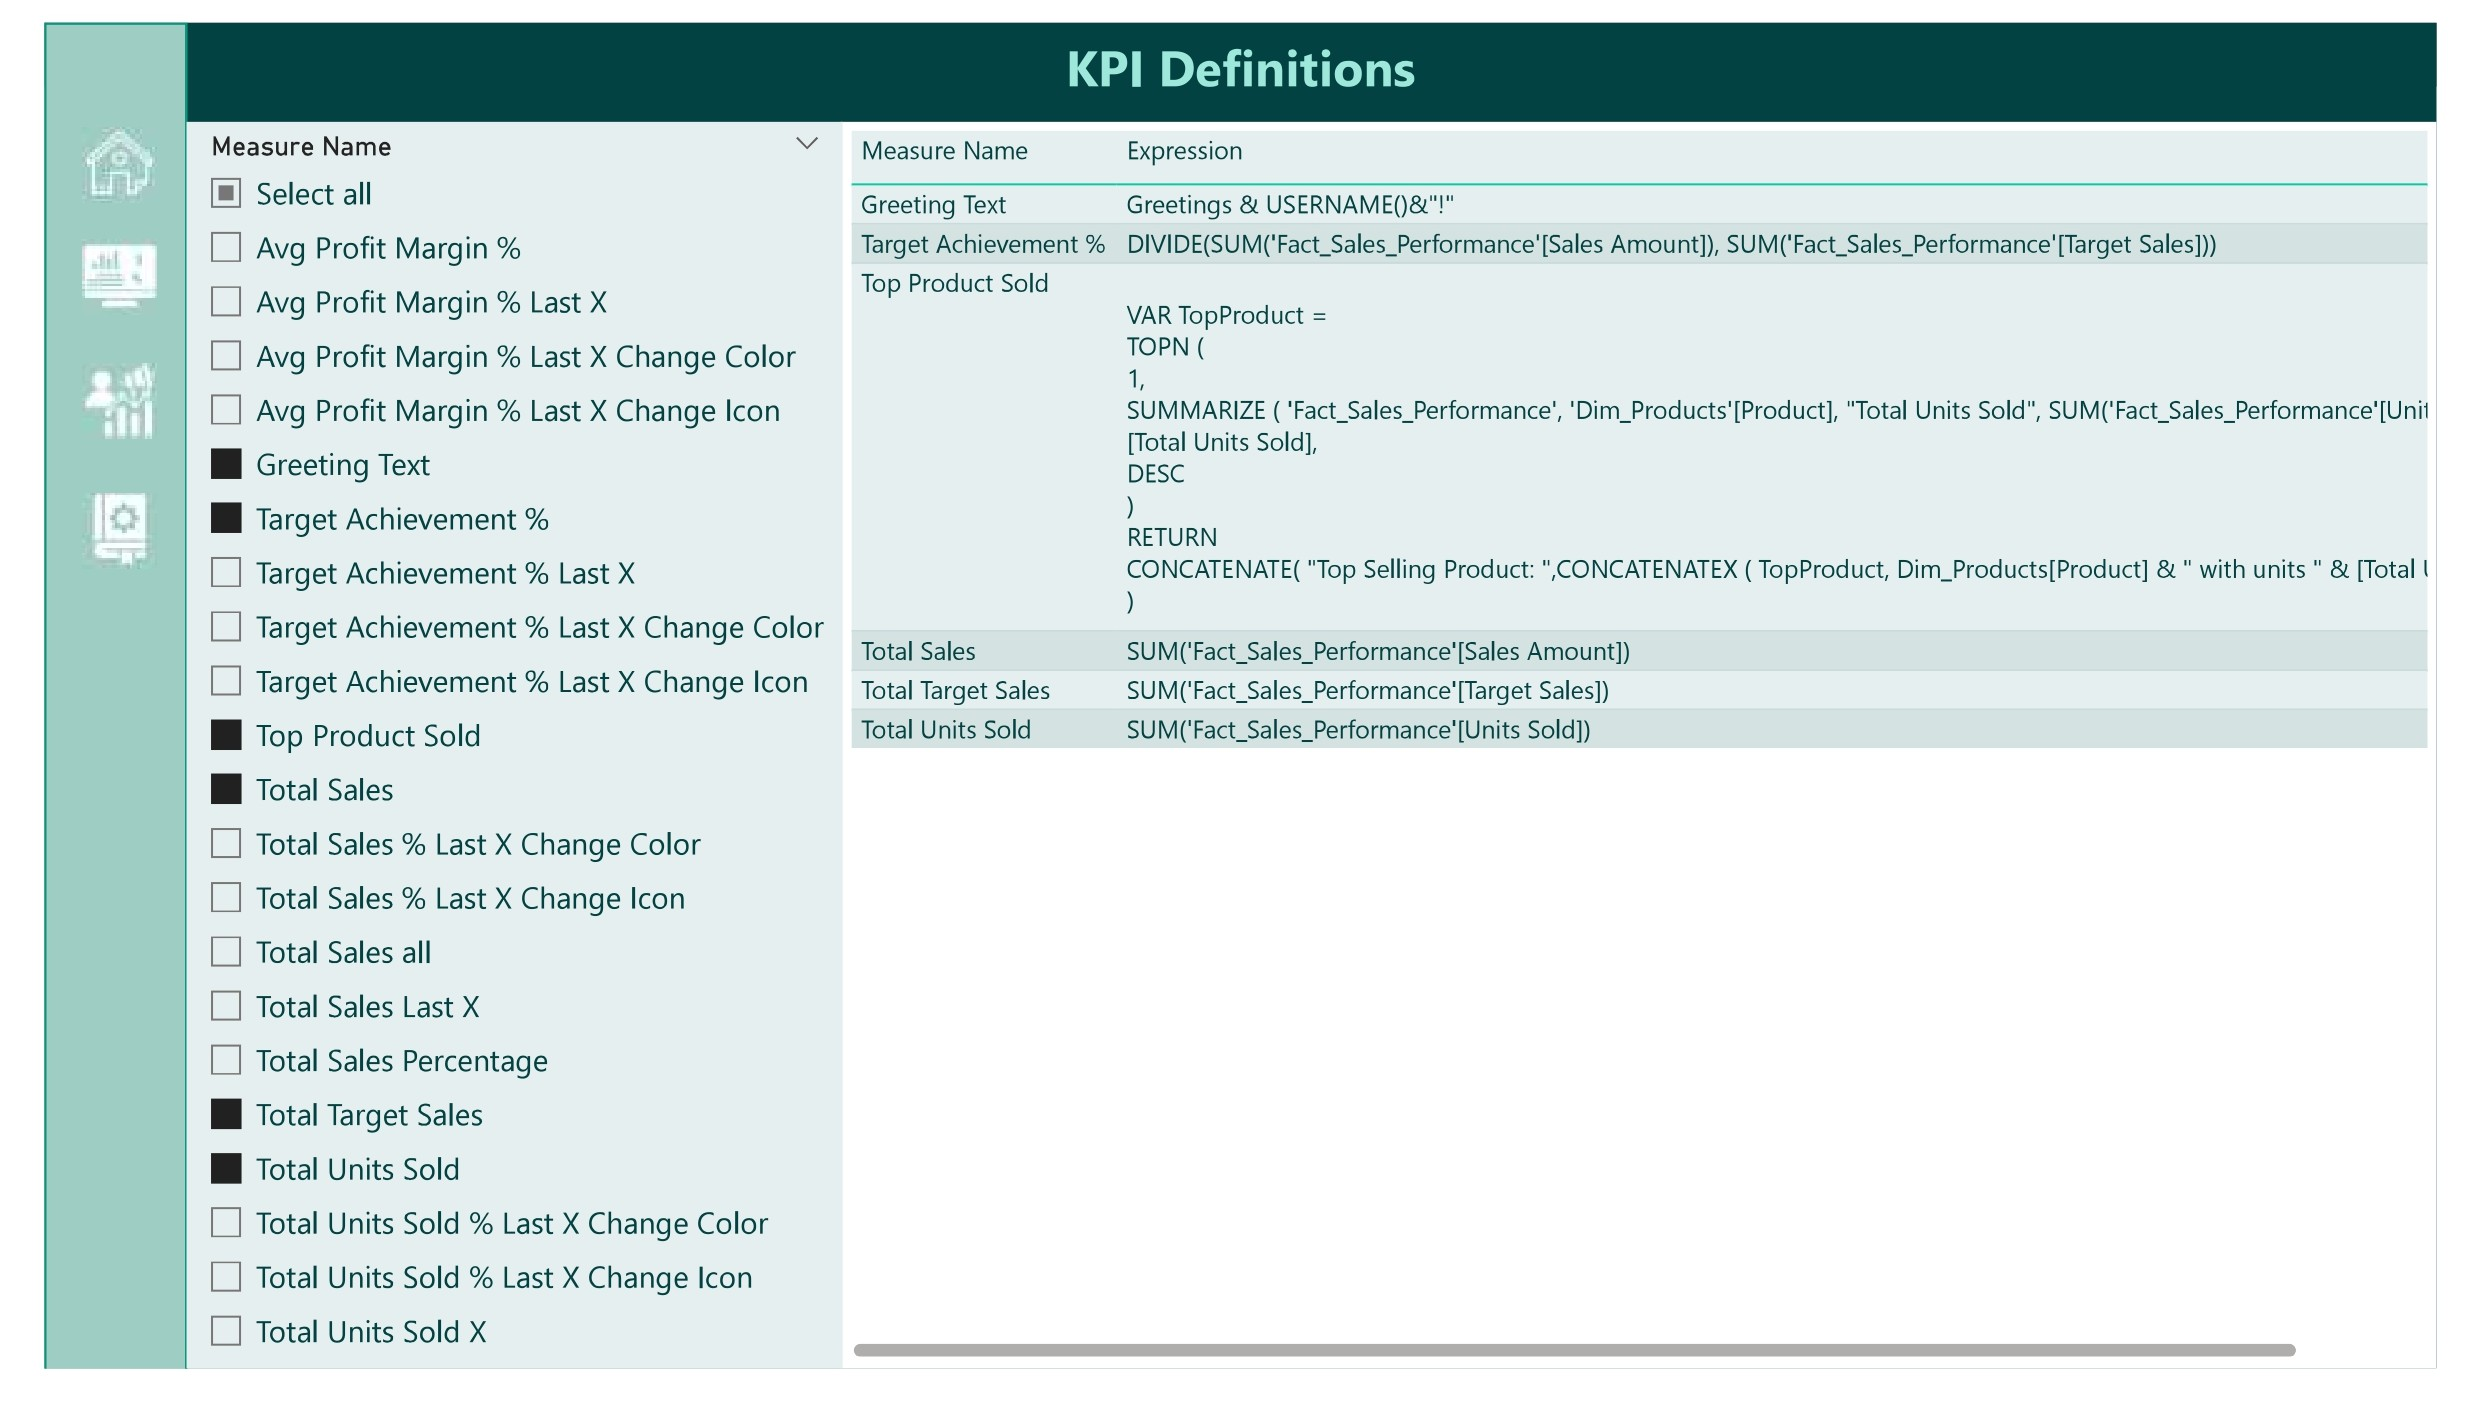

The page's visual inventory and layout, read from the dashboard file:
{"tool":"powerbi","page":{"name":"Glossary","canvas":[1280,720],"ordinal":3},"visuals":[{"type":"textbox","box":[0,0,1280,50.7],"z":0},{"type":"shape","box":[0,0,75.7,1294.3],"z":1000},{"type":"actionButton","box":[15.7,50,50,51.4],"z":2000},{"type":"actionButton","box":[15.7,111.4,51.4,50],"z":3000},{"type":"actionButton","box":[15.7,177.1,51.4,50],"z":4000},{"type":"actionButton","box":[15.7,247.1,51.4,50],"z":5000},{"type":"tableEx","fields":{"Values":["KPI Definitions.Measure Name","KPI Definitions.Expression"]},"box":[425.7,52.9,854.3,667.1],"z":6000},{"type":"slicer","fields":{"Values":["KPI Definitions.Measure Name"]},"box":[75.7,52.9,351.4,667.1],"z":7000}]}

Visuals, with their boxes in screenshot pixels (x1, y1, x2, y2), scaled from the page's 1280x720 canvas onto the 2481x1405 screenshot:
textbox: {"left": 0, "top": 0, "right": 2480, "bottom": 99}
shape: {"left": 0, "top": 0, "right": 147, "bottom": 1404}
actionButton: {"left": 30, "top": 98, "right": 127, "bottom": 198}
actionButton: {"left": 30, "top": 217, "right": 130, "bottom": 315}
actionButton: {"left": 30, "top": 346, "right": 130, "bottom": 443}
actionButton: {"left": 30, "top": 482, "right": 130, "bottom": 580}
tableEx - KPI Definitions.Measure Name x KPI Definitions.Expression: {"left": 825, "top": 103, "right": 2480, "bottom": 1404}
slicer - KPI Definitions.Measure Name: {"left": 147, "top": 103, "right": 828, "bottom": 1404}
